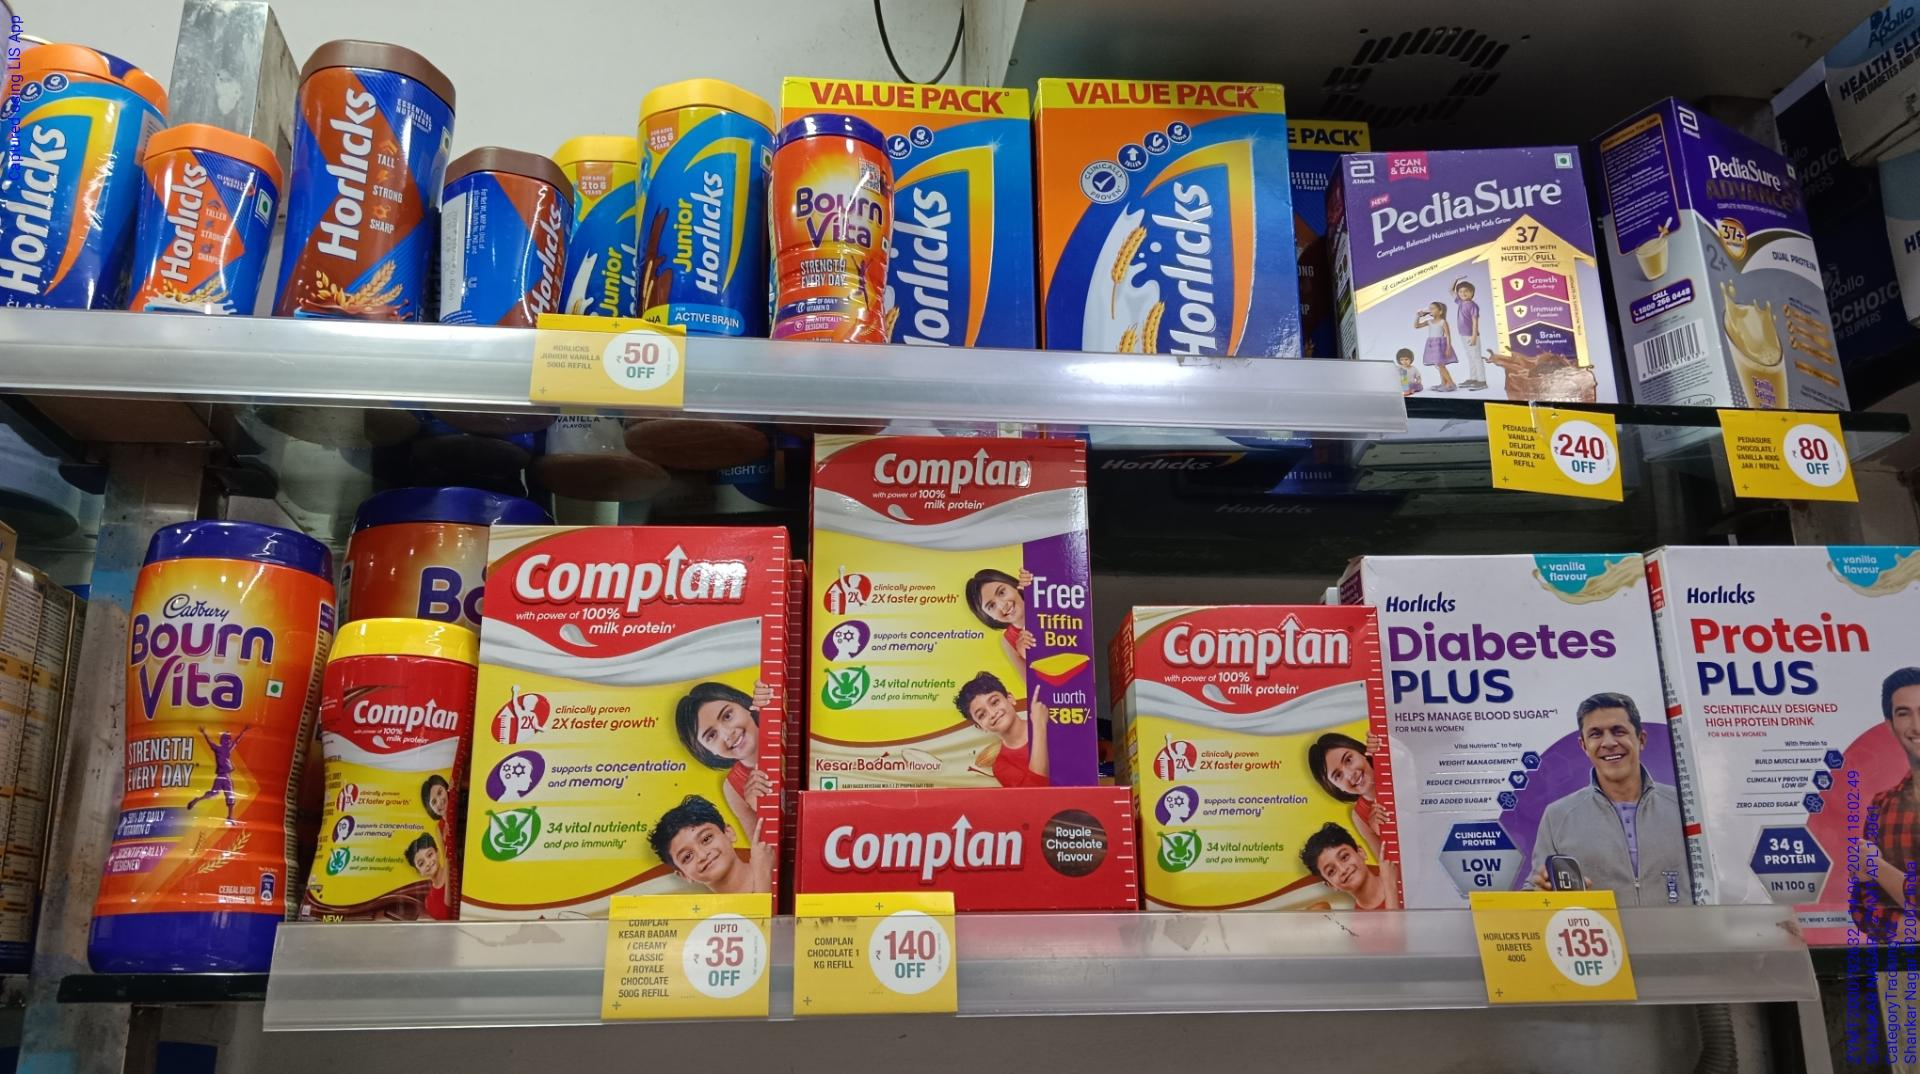BOURN_VITA_500_G_JAR: (79, 508, 307, 976)
COMPLAN_CHOCOLATE_200_GMS_JAR: (310, 619, 463, 916)
COMPLAN_KESAR_BADAM_200_GMS_PACK: (808, 429, 1098, 782), (1146, 599, 1390, 924)
COMPLAN_KESAR_BADAM_500_GMS_PACK: (479, 520, 775, 916)
HORLICK_CHOCOLATE_500_G_JAR: (282, 29, 436, 315)
HORLICK_CLASSIC_MALT_200_G_JAR: (148, 121, 262, 305)
HORLICK_CLASSIC_MALT_500_G_JAR: (0, 36, 138, 314)
